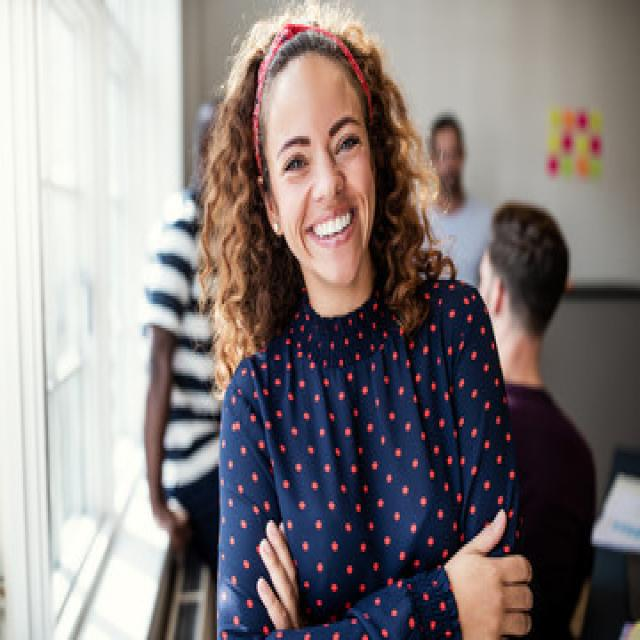person-without-mask: (196, 19, 531, 640)
